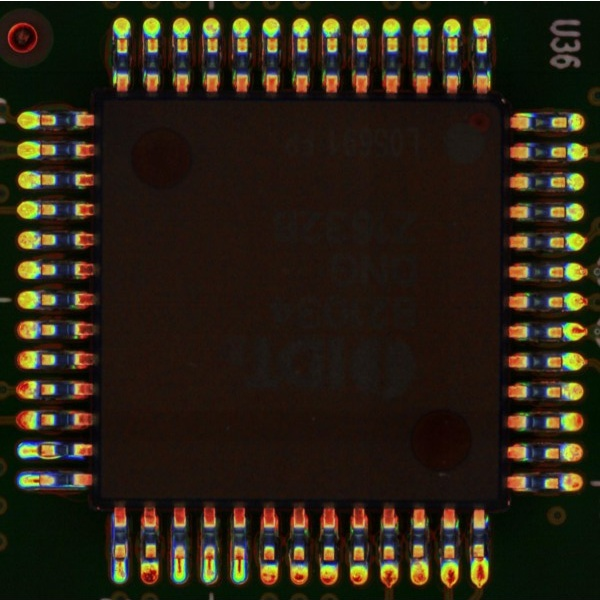Bad_podu: (236, 550, 245, 573), (176, 548, 184, 572), (206, 548, 214, 571), (117, 549, 124, 571), (32, 476, 47, 485), (29, 445, 43, 454)
Bad_qiaojiao: (40, 454, 64, 458), (41, 440, 64, 444)
